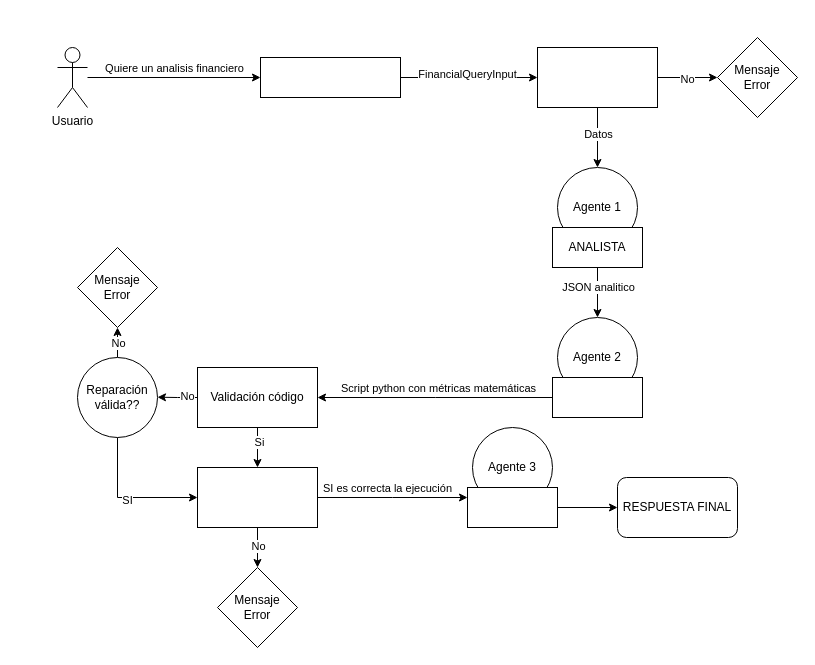
This 815x665 diagram has some shape labels left out. The shapes that lost their labels are listed below. From the top down, each one's centre as x and y in pixels, then its label:
the point at 330,77: Entrada de los datos
the point at 597,77: Ingesta / Validación
the point at 597,397: GENERADOR CÓDIGO
the point at 257,497: Ejecutor de Código
the point at 512,507: INTERPRETA
